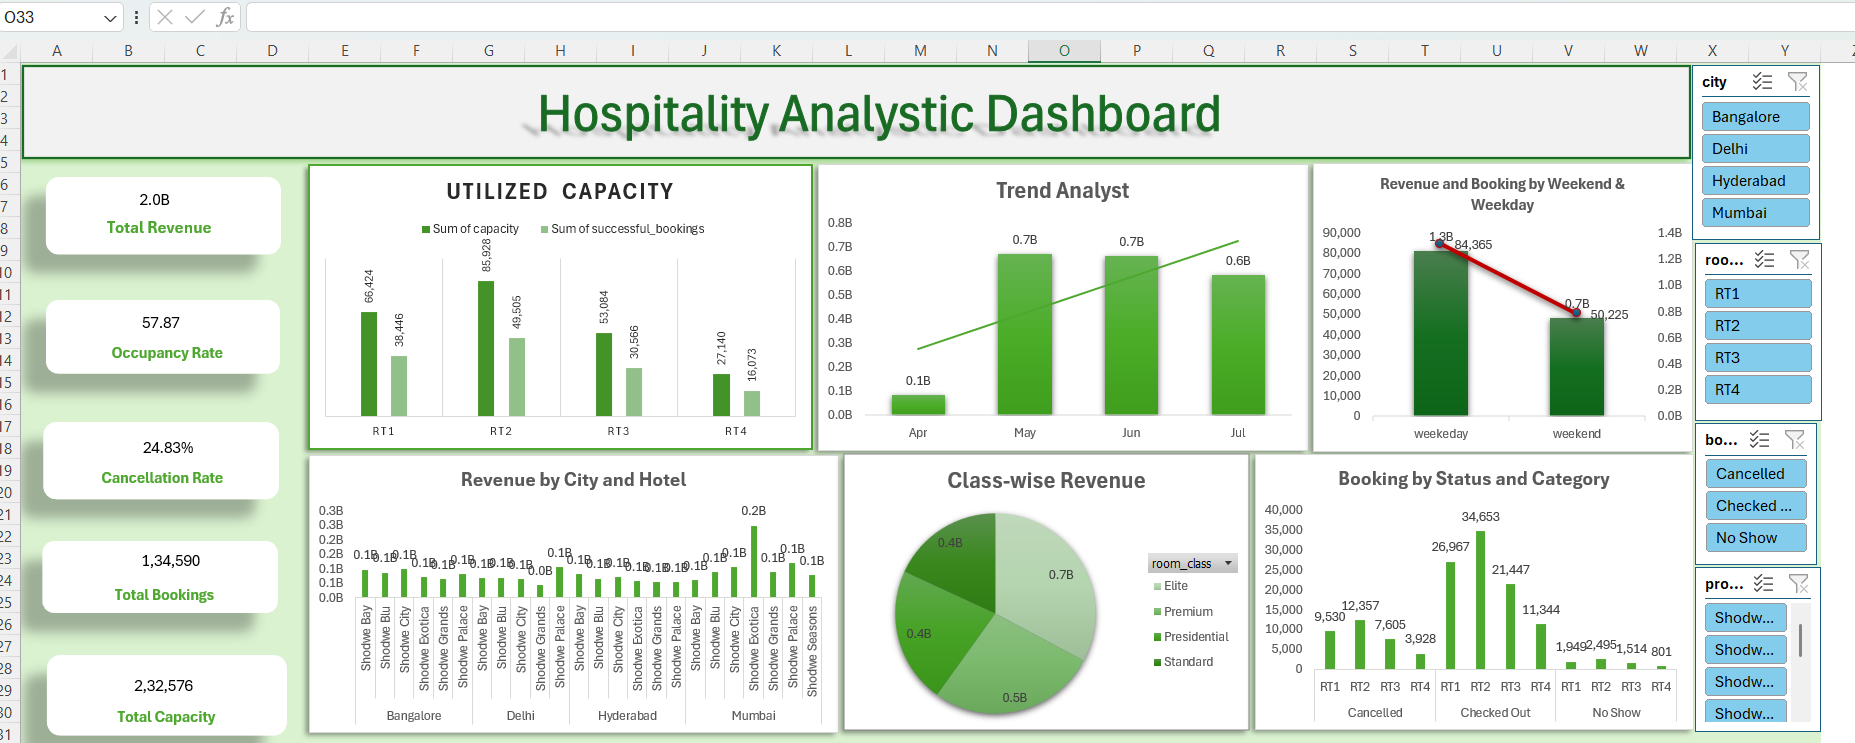

Layout of this report page (visuals, bound fields, positions):
{"tool":"tableau","page":{"name":"Dashboard 1","canvas":[1000,1000],"units":"permille","ordinal":0},"visuals":[{"type":"text","box":[4.9,8.8,922,81.8]},{"type":"filter","title":"Revenue by State and Hotel","param":"[federated.0isxcyk0ii92bp143nlhl18z355o].[none:city:nk]","box":[926.9,8.8,68.2,166.8]},{"type":"worksheet","title":"KPI","mark":"Automatic","box":[3.7,92.8,921.4,122.7]},{"type":"filter","title":"Class-wise revenue","param":"[federated.0isxcyk0ii92bp143nlhl18z355o].[none:room_category:nk]","box":[926.9,175.7,68.2,166.8]},{"type":"worksheet","title":"Utilized Capacity","mark":"Automatic","box":[5.5,215.5,270.6,370.2]},{"type":"worksheet","title":"Revenue & bookings","mark":"Pie","cols":["day_type"],"box":[276.7,215.5,245,371.3]},{"type":"worksheet","title":"Class-wise revenue","mark":"Pie","box":[522.2,215.5,204.1,372.4]},{"type":"worksheet","title":"checked out/cencel/No show","mark":"Automatic","box":[725.8,216.6,198.7,370.2]},{"type":"filter","title":"checked out/cencel/No show","param":"[federated.0isxcyk0ii92bp143nlhl18z355o].[none:booking_status:nk]","box":[926.9,342.5,68.2,141.4]},{"type":"legend","title":"Class-wise revenue","param":"[federated.0isxcyk0ii92bp143nlhl18z355o].[none:room_category:nk]","box":[524.7,352.5,46.9,122.7]},{"type":"filter","title":"Weekly trend key metrics","param":"[federated.0isxcyk0ii92bp143nlhl18z355o].[none:week no:nk]","box":[926.9,484,68.2,421]},{"type":"legend","title":"Revenue & bookings","param":"[federated.0isxcyk0ii92bp143nlhl18z355o].[none:day_type:nk]","box":[286.1,527.1,64.8,46.6]},{"type":"worksheet","title":"Weekly trend key metrics","mark":"Automatic","rows":["Calculation_673288190248730626","Calculation_673288190243160064"],"cols":["week no"],"box":[632.1,590,293.3,399.1]},{"type":"worksheet","title":"Trend Analysis","mark":"Automatic","rows":["revenue_generated","Calculation_673288190243160064"],"cols":["week no"],"box":[4.9,590.1,307.7,400]},{"type":"worksheet","title":"Revenue by State and Hotel","mark":"Automatic","rows":["property_name"],"cols":["revenue_generated"],"box":[313.2,590.1,318.7,400]},{"type":"legend","title":"Weekly trend key metrics","param":"[federated.0isxcyk0ii92bp143nlhl18z355o].[:Measure Names]","box":[926.9,905,68.2,79.6]}]}

Visuals, with their boxes on the dashboard's canvas, which has no fixed pixel size, in thousandths of its width and height (x1, y1, x2, y2). These are canvas units, not pixel positions in the 1855x743 screenshot, which may show the page scaled, cropped or inside an application window:
text: (x1=5, y1=9, x2=927, y2=91)
"Revenue by State and Hotel" filter: (x1=927, y1=9, x2=995, y2=176)
"KPI" worksheet: (x1=4, y1=93, x2=925, y2=216)
"Class-wise revenue" filter: (x1=927, y1=176, x2=995, y2=342)
"Utilized Capacity" worksheet: (x1=6, y1=216, x2=276, y2=586)
"Revenue & bookings" worksheet (Pie marks): (x1=277, y1=216, x2=522, y2=587)
"Class-wise revenue" worksheet (Pie marks): (x1=522, y1=216, x2=726, y2=588)
"checked out/cencel/No show" worksheet: (x1=726, y1=217, x2=924, y2=587)
"checked out/cencel/No show" filter: (x1=927, y1=342, x2=995, y2=484)
"Class-wise revenue" legend: (x1=525, y1=352, x2=572, y2=475)
"Weekly trend key metrics" filter: (x1=927, y1=484, x2=995, y2=905)
"Revenue & bookings" legend: (x1=286, y1=527, x2=351, y2=574)
"Weekly trend key metrics" worksheet: (x1=632, y1=590, x2=925, y2=989)
"Trend Analysis" worksheet: (x1=5, y1=590, x2=313, y2=990)
"Revenue by State and Hotel" worksheet: (x1=313, y1=590, x2=632, y2=990)
"Weekly trend key metrics" legend: (x1=927, y1=905, x2=995, y2=985)
